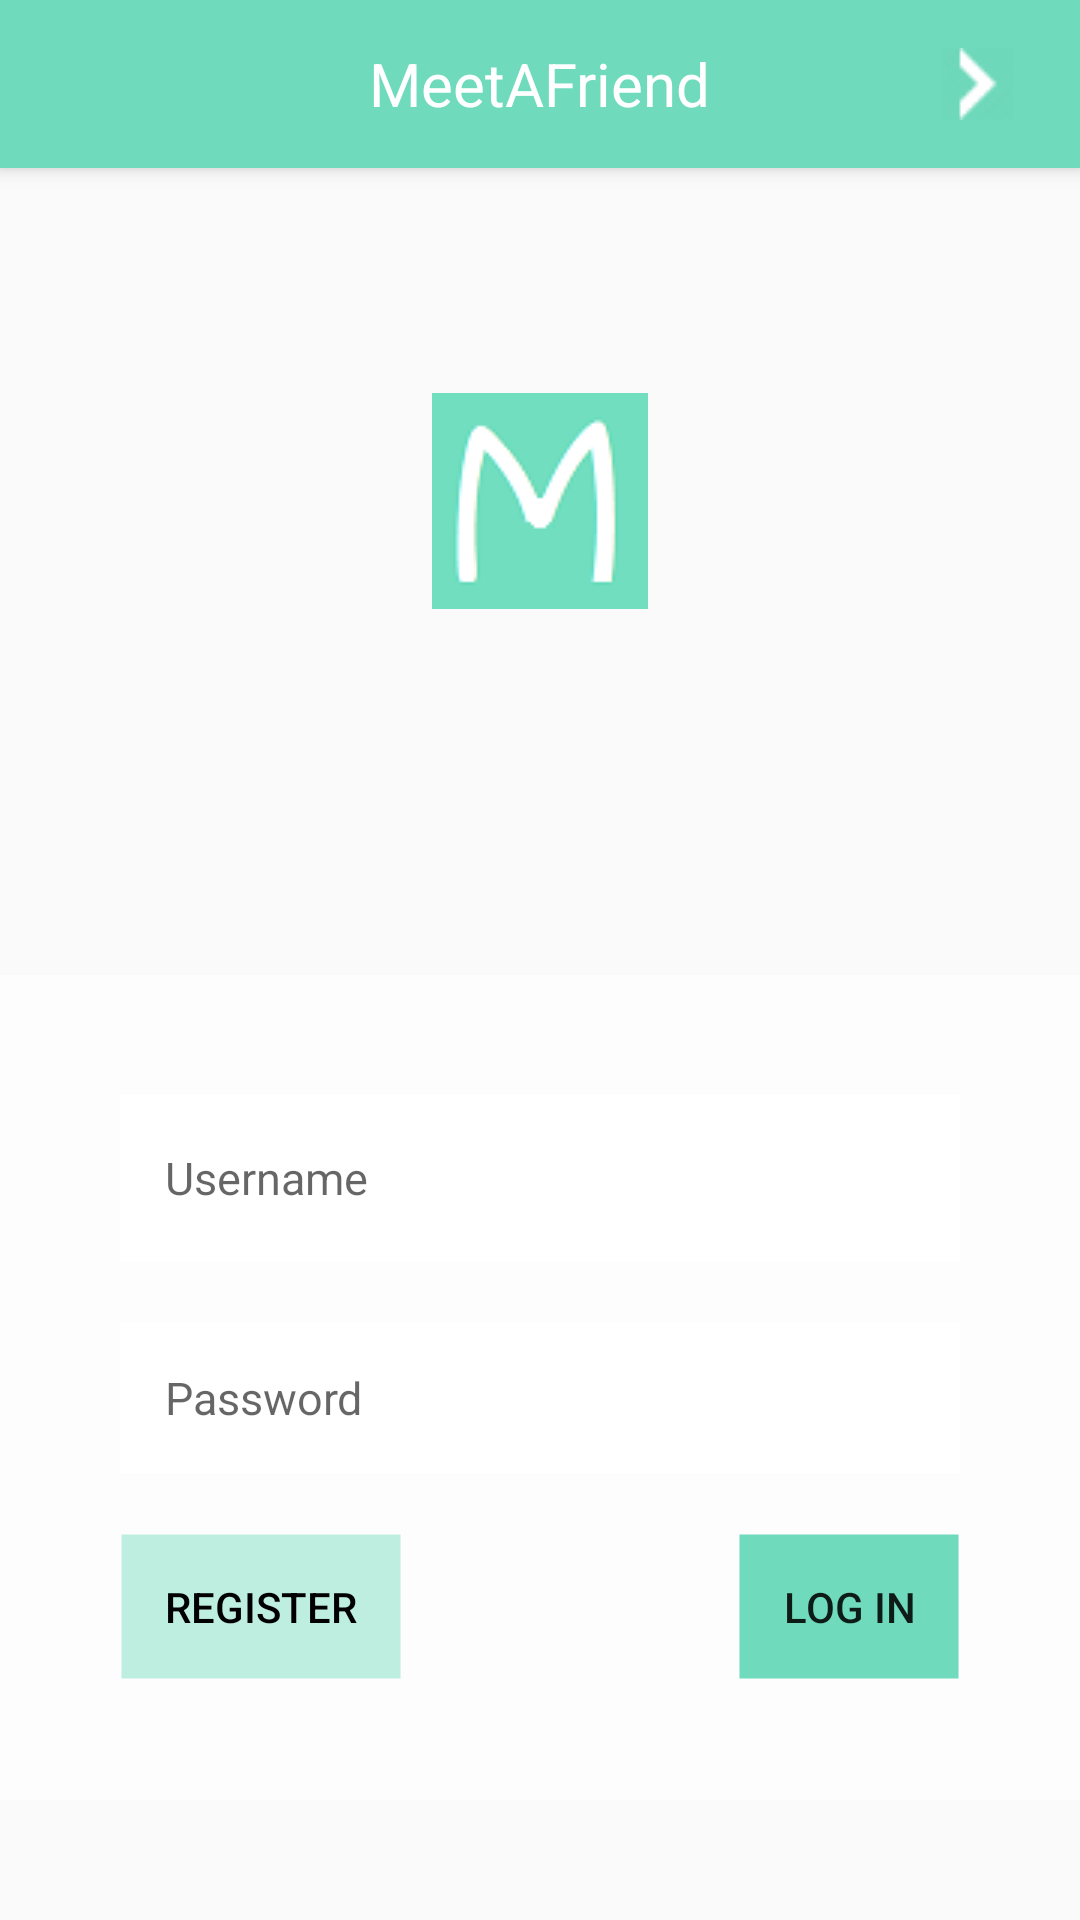

Where to tap for icons on this 1080×1920 app screen, as point (x, y):
arrow: point (978, 84)
